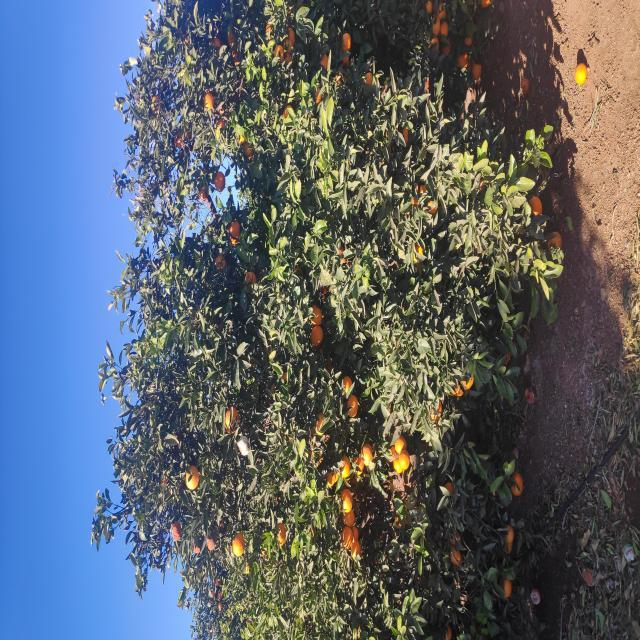Jeruk Sudah Matang: (206, 225, 234, 239), (143, 509, 168, 524), (385, 547, 410, 562), (150, 186, 176, 200), (216, 429, 242, 442), (422, 528, 444, 543), (394, 229, 420, 241), (292, 310, 314, 324), (175, 360, 198, 373), (127, 341, 151, 353), (90, 342, 114, 354), (314, 310, 337, 322), (222, 346, 245, 358), (85, 232, 106, 245), (242, 340, 264, 352), (162, 338, 184, 350), (248, 460, 266, 474), (350, 245, 369, 258), (448, 214, 468, 226), (94, 276, 118, 286), (204, 316, 228, 326), (184, 394, 204, 406), (164, 353, 184, 364), (584, 210, 602, 222), (584, 282, 602, 294), (569, 458, 587, 470), (604, 430, 625, 440), (75, 449, 91, 462), (115, 343, 132, 355), (98, 172, 118, 182), (170, 400, 190, 410), (557, 472, 577, 482), (529, 204, 548, 214), (589, 340, 608, 350), (154, 327, 171, 338), (526, 151, 544, 161), (166, 394, 184, 404), (378, 414, 396, 424), (424, 427, 440, 438), (483, 244, 500, 254), (578, 274, 595, 284), (584, 441, 601, 451), (243, 451, 256, 464), (520, 282, 535, 293), (595, 286, 613, 295), (574, 282, 590, 292), (534, 314, 554, 322), (81, 351, 97, 361), (370, 215, 384, 226), (42, 504, 61, 512), (96, 506, 115, 514), (492, 174, 507, 184), (569, 320, 587, 328), (546, 520, 562, 529), (621, 437, 637, 446), (444, 415, 456, 427), (376, 338, 394, 346), (494, 236, 508, 246), (500, 182, 515, 191), (574, 232, 589, 241), (593, 227, 609, 235), (602, 266, 618, 274), (144, 444, 160, 452), (602, 441, 620, 448), (179, 388, 194, 396), (95, 452, 107, 462), (95, 352, 114, 358), (110, 394, 124, 402), (86, 504, 100, 512), (511, 216, 522, 226), (440, 198, 452, 206), (556, 364, 568, 372), (498, 402, 514, 408), (0, 446, 15, 452), (152, 162, 166, 168), (632, 480, 640, 490), (596, 464, 604, 472), (576, 342, 585, 349), (436, 412, 444, 419), (259, 282, 268, 288), (628, 427, 638, 432), (54, 214, 62, 220), (422, 406, 430, 412), (41, 212, 50, 216), (41, 218, 48, 222), (29, 219, 36, 222)
